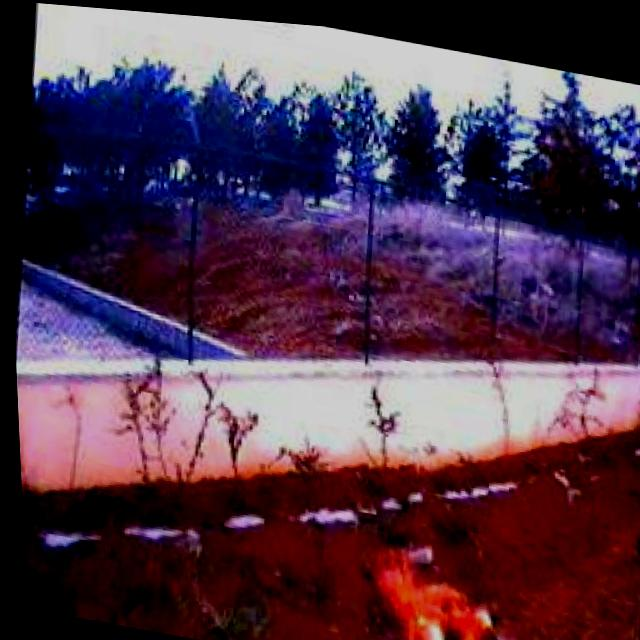helmet: (356, 541, 518, 640)
